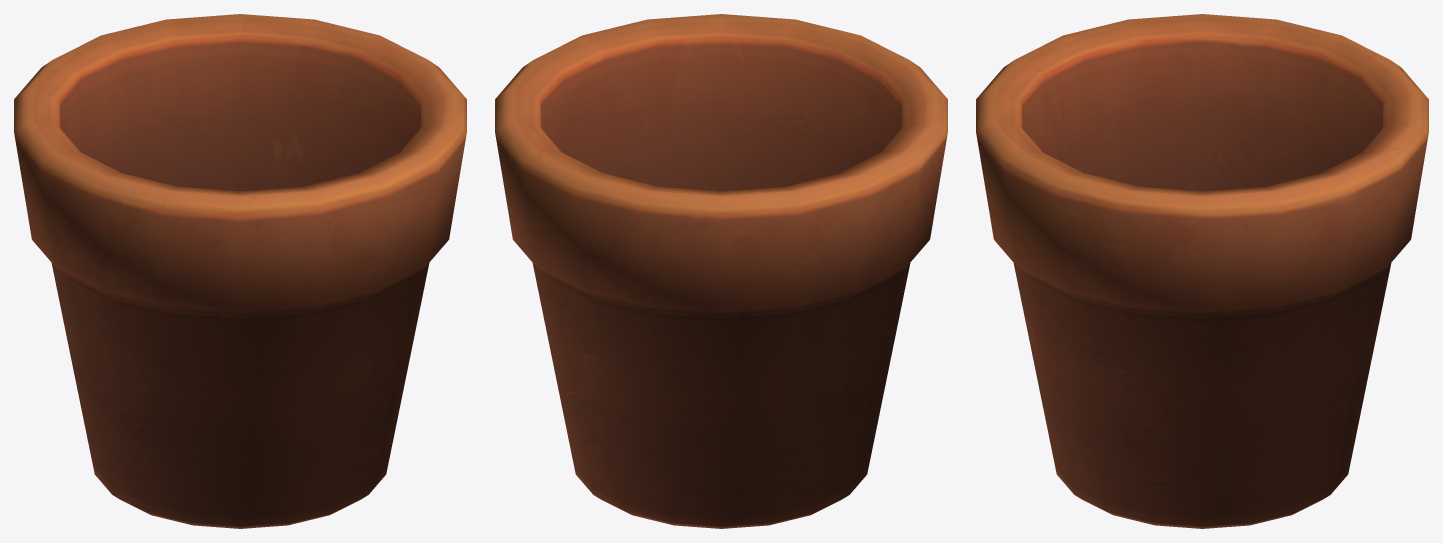
The model's file is SE_Pot_01b.fbx.
3 renders of one model, left to right at view 1: azimuth 30°, elevation 25°; view 2: azimuth 150°, elevation 25°; view 3: azimuth 270°, elevation 25°, orthographic.
Parts seen in each view (by area): view 1: SE_Pot_01b; view 2: SE_Pot_01b; view 3: SE_Pot_01b.
Boxes of the visible parts, left/top/right/bottom form: SE_Pot_01b: left=14, top=14, right=466, bottom=528; SE_Pot_01b: left=495, top=14, right=947, bottom=528; SE_Pot_01b: left=976, top=14, right=1428, bottom=528.
Size of the model in its own units: 1.77 by 1.55 by 1.74.
